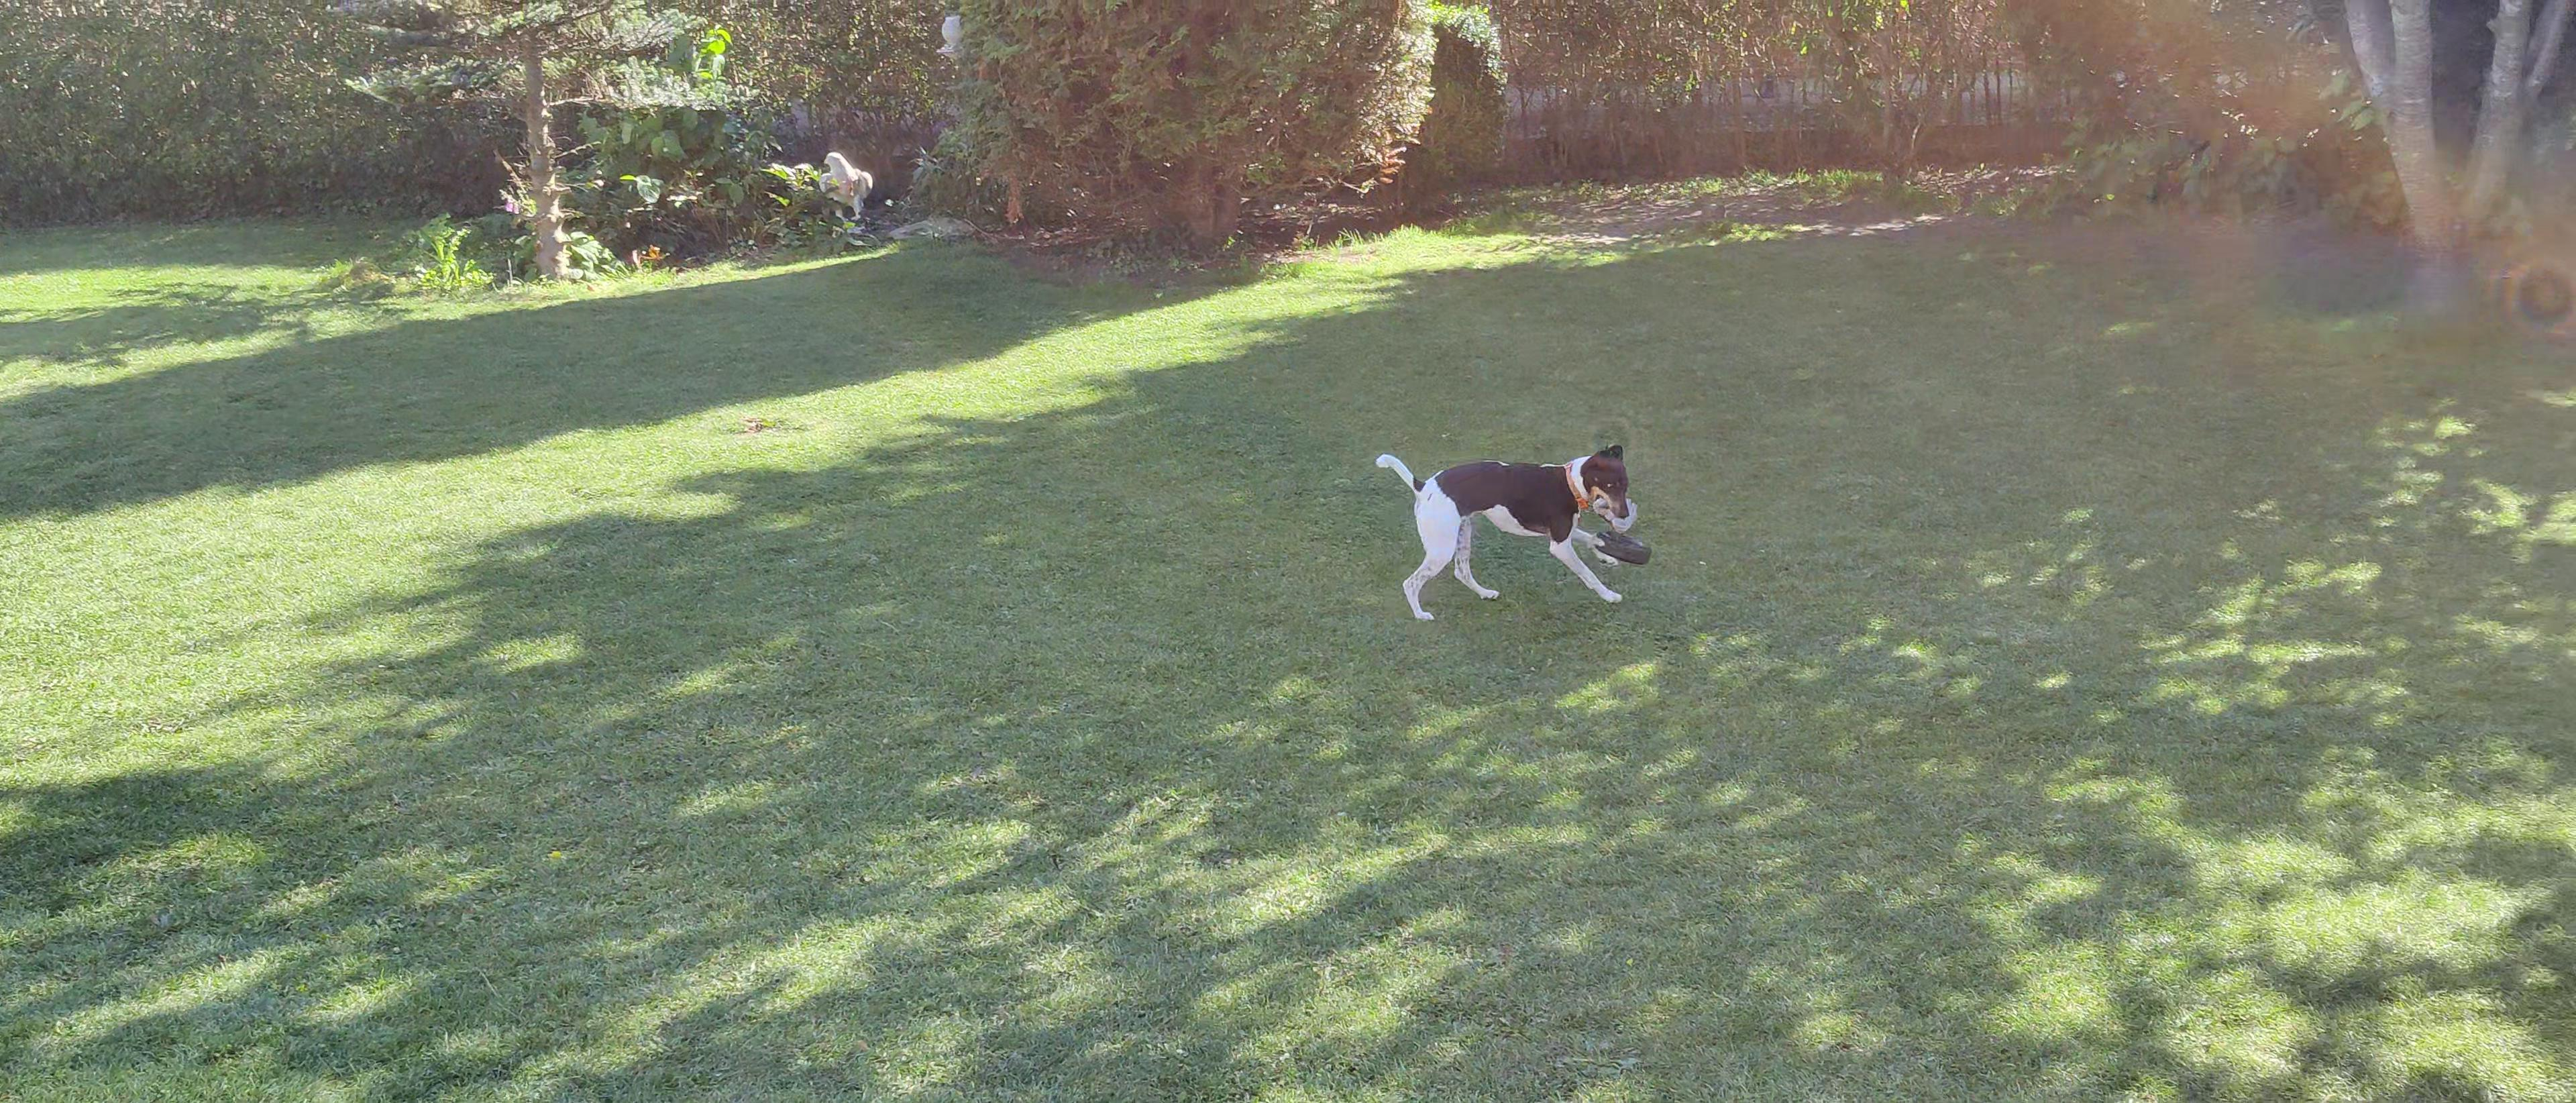Dog: (1364, 434, 1641, 621)
